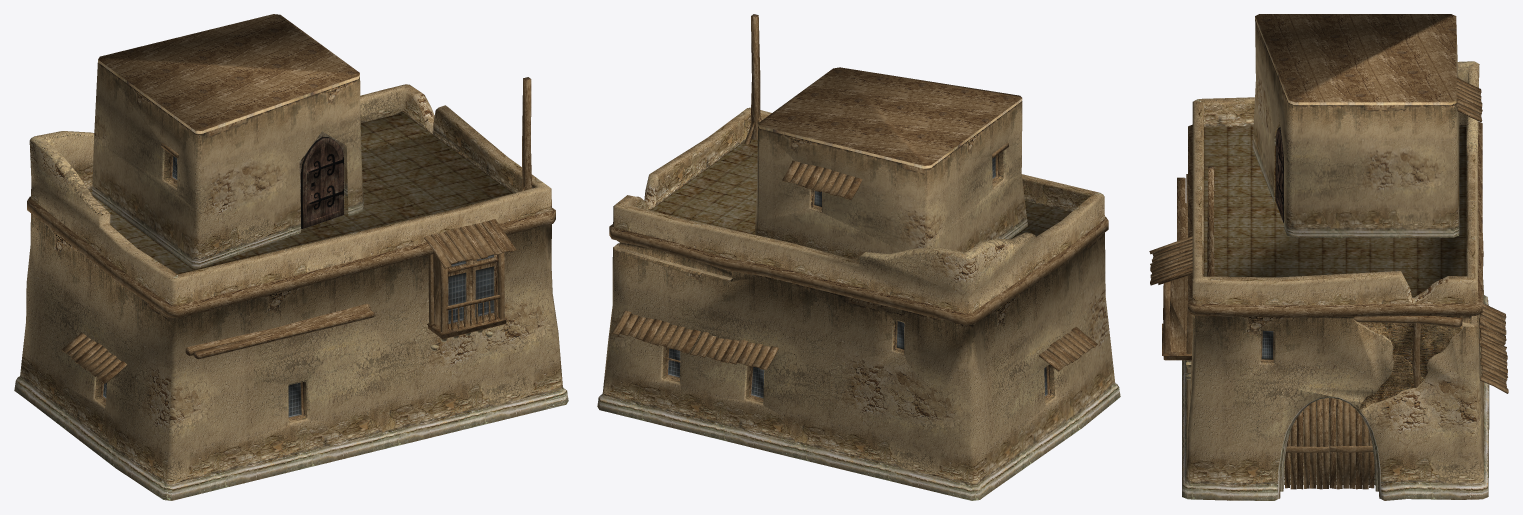
The model's file is oriental_houses_03_LOD2.obj.
3 renders of one model, left to right at view 1: azimuth 30°, elevation 25°; view 2: azimuth 150°, elevation 25°; view 3: azimuth 270°, elevation 25°, orthographic. The views are drawn at different scales.
Visible parts, largest first — view 1: oriental_houses_03_LOD2.obj; view 2: oriental_houses_03_LOD2.obj; view 3: oriental_houses_03_LOD2.obj.
Boxes of the visible parts, left/top/right/bottom form: oriental_houses_03_LOD2.obj: left=14, top=14, right=568, bottom=500; oriental_houses_03_LOD2.obj: left=597, top=14, right=1120, bottom=500; oriental_houses_03_LOD2.obj: left=1149, top=14, right=1508, bottom=500.
Bounding box in the file's own units: 432 × 315 × 318.
9 materials, 9 textured.
